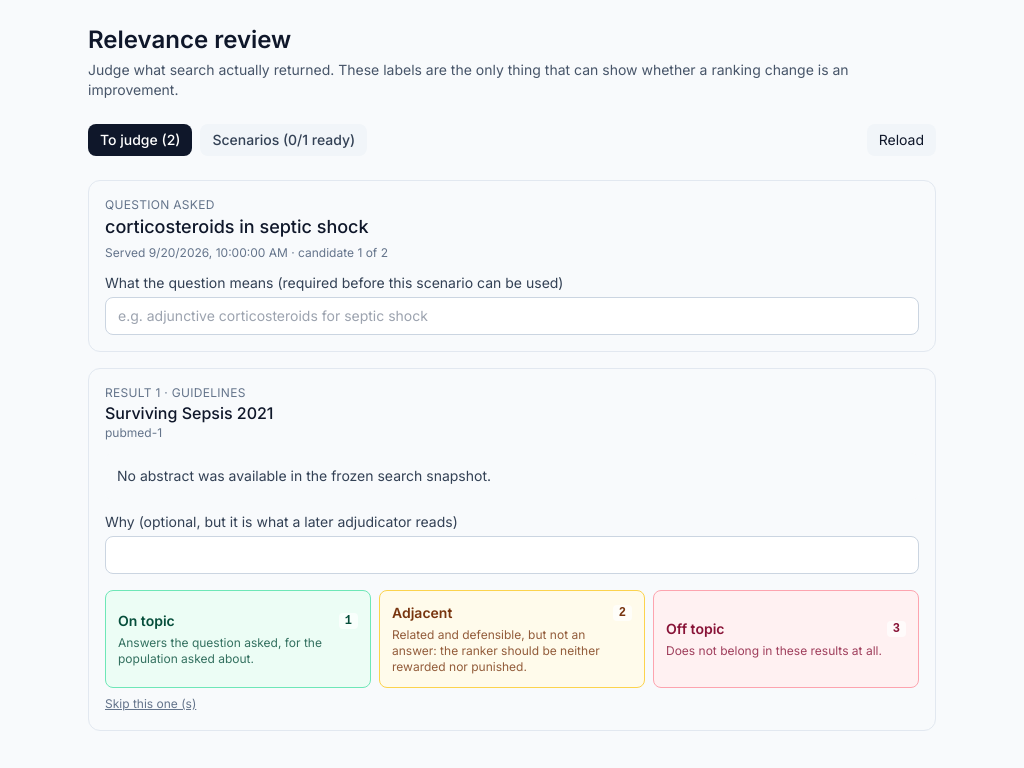
Test case: RelevanceReviewPage › a verdict is sent with the served position it was judged at, then moves on
The width and height of the screenshot is (1024, 768).
Expected: the text "Surviving Sepsis 2021" is shown, [105, 401, 274, 425]
Click the text "On topic" at (146, 620), box [118, 611, 358, 631]
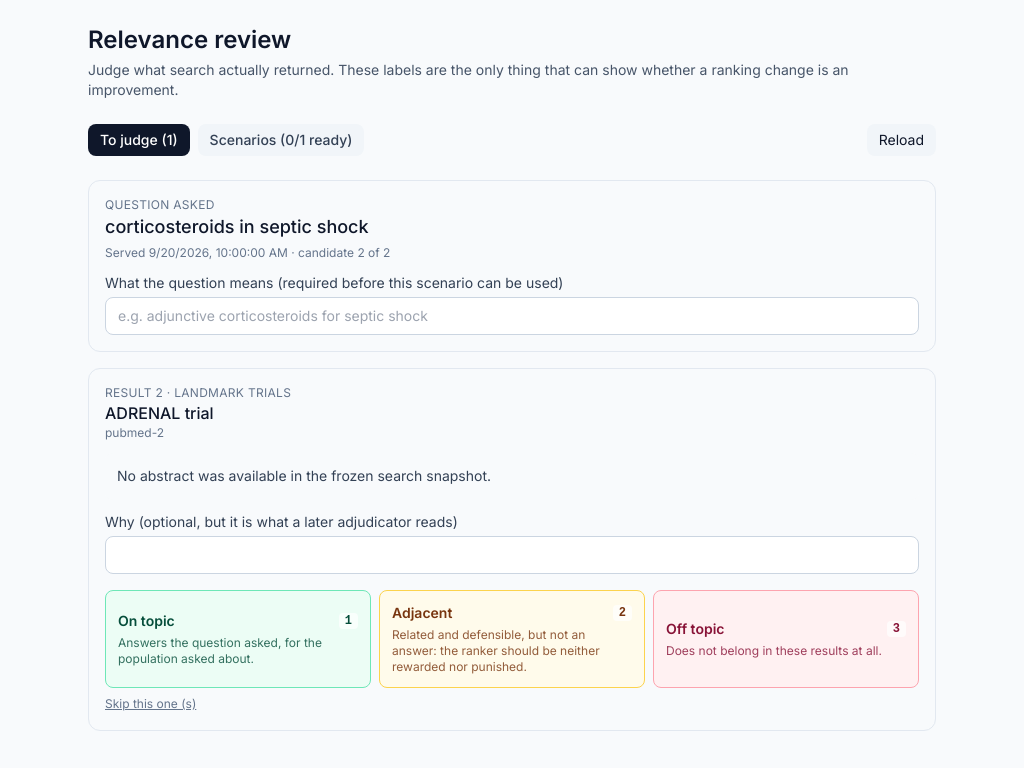
Expected: the text "ADRENAL trial" is shown, [105, 403, 214, 423]
